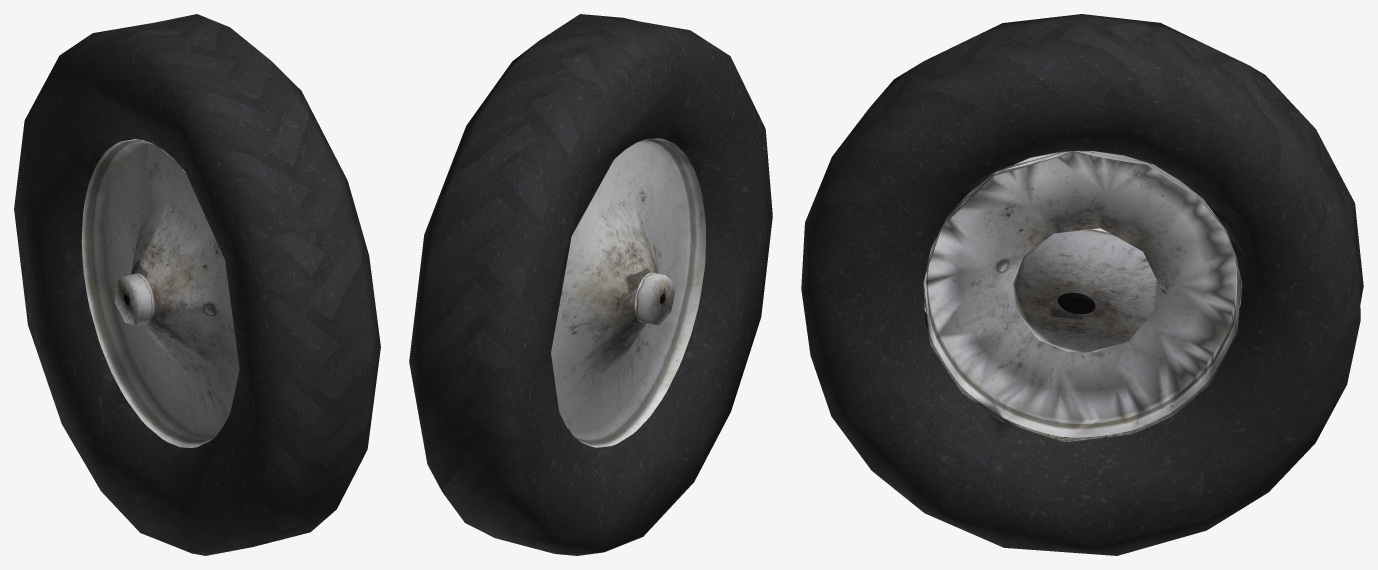
File: _uota left.fbx
3 views of the same model, side by side, from view 1: azimuth 30°, elevation 25°; view 2: azimuth 150°, elevation 25°; view 3: azimuth 270°, elevation 25° (orthographic). The views are drawn at different scales.
Parts seen in each view (by area): view 1: Rover.003; view 2: Rover.003; view 3: Rover.003.
Part boxes in pixels (x1,y1,x2,y2): Rover.003: (14, 14, 380, 555); Rover.003: (409, 14, 772, 555); Rover.003: (801, 14, 1363, 555).
Bounding box in the file's own units: 61.13 × 215 × 214.
